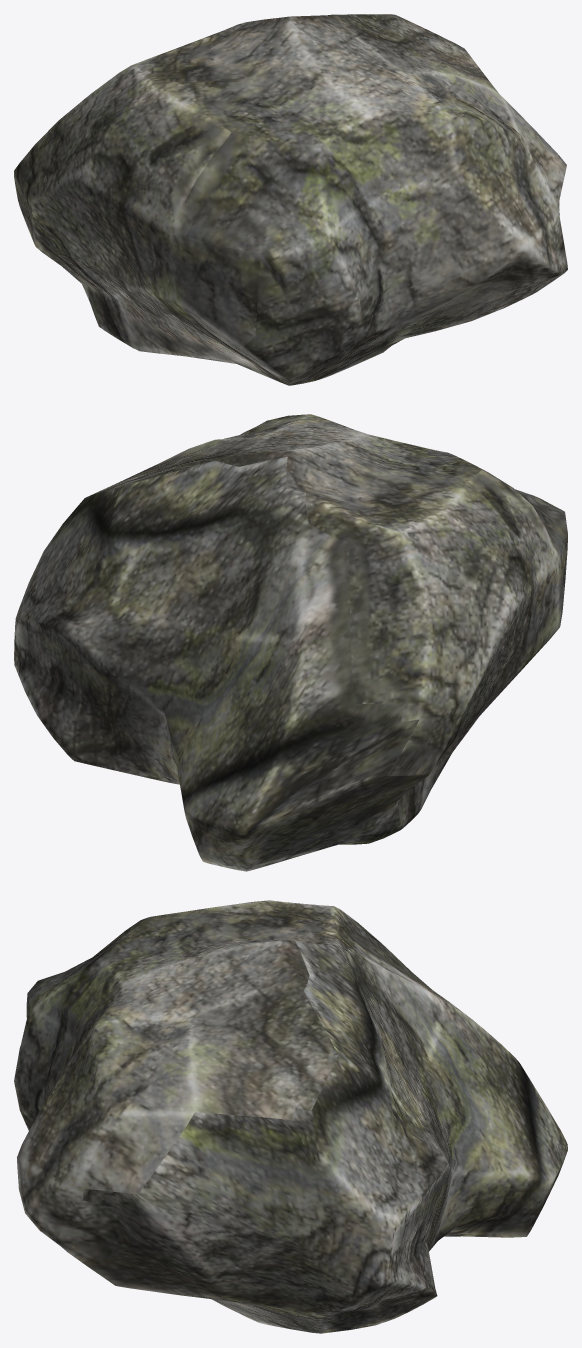
The model's file is rock3_LOD0.FBX.
3 renders of one model, top to bottom at view 1: azimuth 30°, elevation 25°; view 2: azimuth 150°, elevation 25°; view 3: azimuth 270°, elevation 25°, orthographic. The views are drawn at different scales.
Parts seen in each view (by area): view 1: rock3_LOD0; view 2: rock3_LOD0; view 3: rock3_LOD0.
Part boxes in pixels (<box>): rock3_LOD0: <box>14,14,567,385</box>; rock3_LOD0: <box>14,414,567,871</box>; rock3_LOD0: <box>14,900,567,1333</box>.
Size of the model in its own units: 126 by 90.77 by 136.
